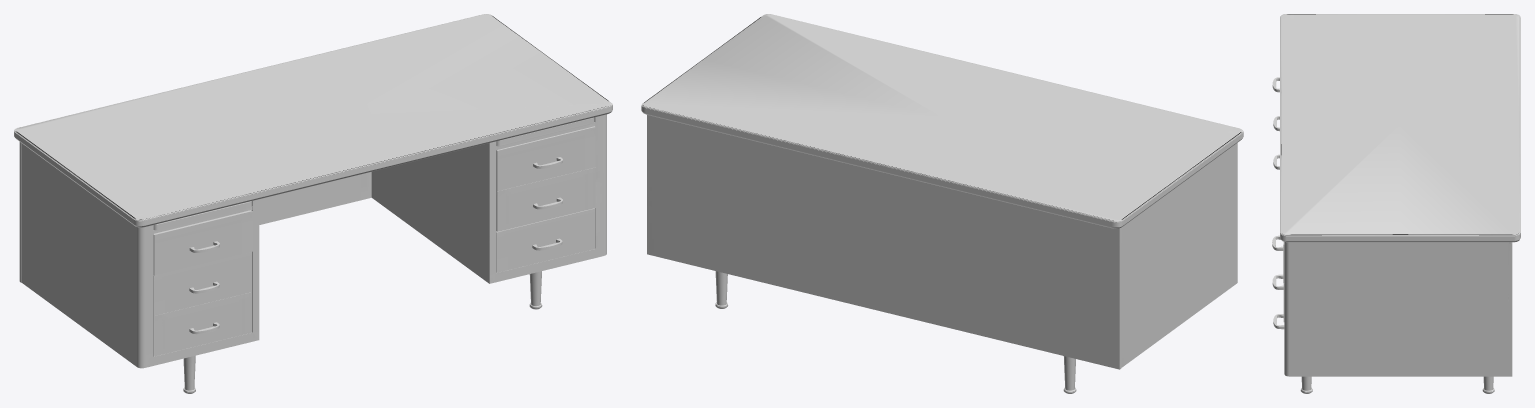
3 views of the same model, side by side, from view 1: azimuth 30°, elevation 25°; view 2: azimuth 150°, elevation 25°; view 3: azimuth 270°, elevation 25° (orthographic). The views are drawn at different scales.
Visible parts, largest first — view 1: metal_office_desk, metal_office_desk_drawer_04, metal_office_desk_drawer_01, metal_office_desk_drawer_02, metal_office_desk_drawer_03, metal_office_desk_drawer_06, metal_office_desk_drawer_05, metal_office_desk_tray_01, metal_office_desk_tray_02; view 2: metal_office_desk; view 3: metal_office_desk.
Part boxes in pixels (<box>): metal_office_desk: <box>14,14,612,393</box>; metal_office_desk_drawer_04: <box>153,210,252,275</box>; metal_office_desk_drawer_01: <box>496,126,595,191</box>; metal_office_desk_drawer_02: <box>496,167,595,231</box>; metal_office_desk_drawer_03: <box>496,208,594,272</box>; metal_office_desk_drawer_06: <box>153,292,251,356</box>; metal_office_desk_drawer_05: <box>153,252,251,315</box>; metal_office_desk_tray_01: <box>153,201,251,230</box>; metal_office_desk_tray_02: <box>496,117,594,146</box>; metal_office_desk: <box>641,14,1243,393</box>; metal_office_desk: <box>1280,14,1520,393</box>.
Bounding box in the file's own units: 2 × 0.7875 × 0.9472.
9 materials, 9 textured.
